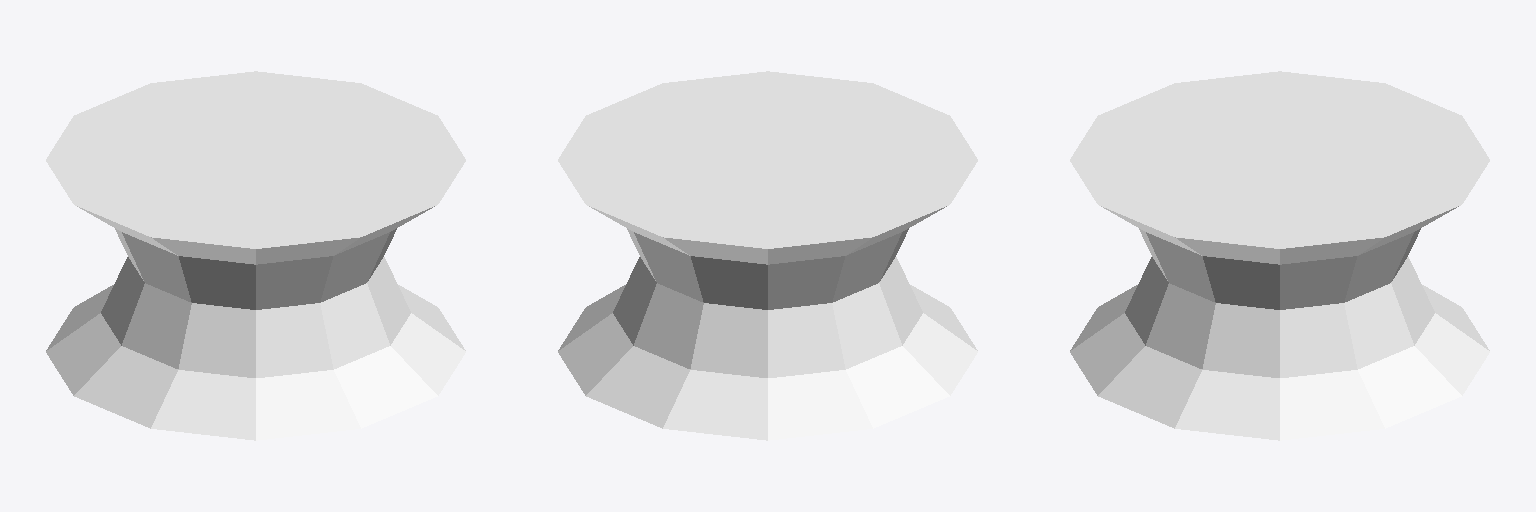
The model's file is connection4.obj.
3 renders of one model, left to right at view 1: azimuth 30°, elevation 25°; view 2: azimuth 150°, elevation 25°; view 3: azimuth 270°, elevation 25°, orthographic.
Parts seen in each view (by area): view 1: pCylinder2; view 2: pCylinder2; view 3: pCylinder2.
Boxes of the visible parts, x1=… form: pCylinder2: x1=46, y1=71, x2=465, y2=440; pCylinder2: x1=558, y1=71, x2=977, y2=440; pCylinder2: x1=1070, y1=71, x2=1489, y2=440.
Bounding box in the file's own units: 1.99 × 0.9978 × 1.99.